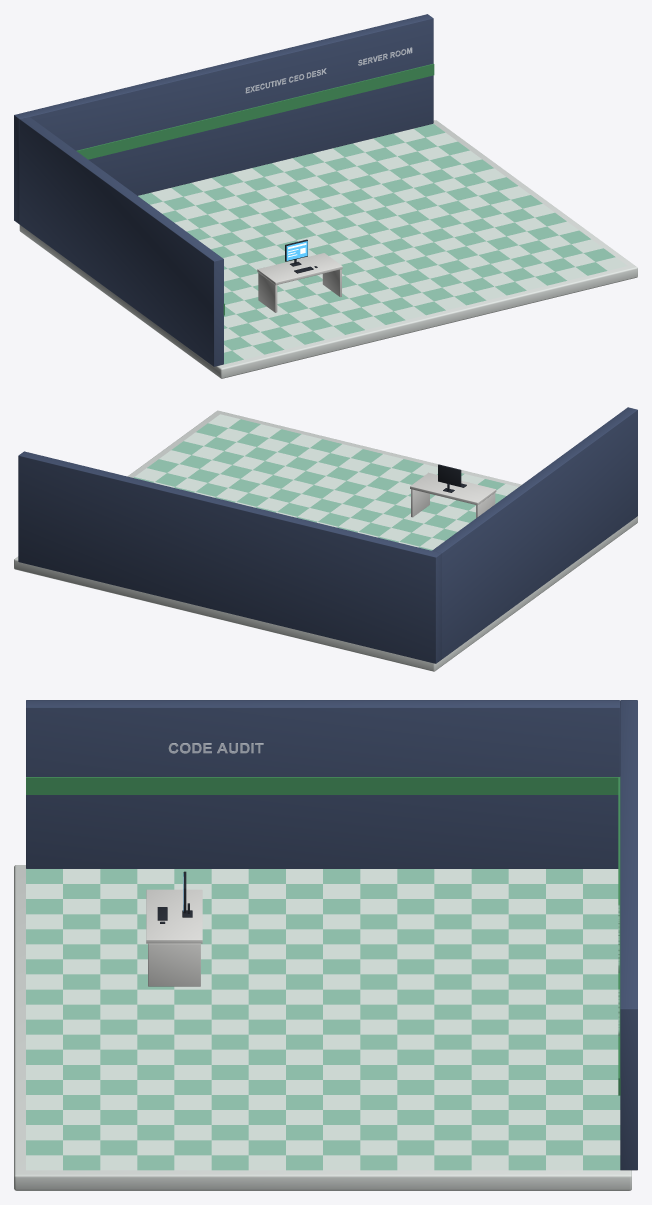
File: room.glb
3 views of the same model, one above another, from view 1: azimuth 30°, elevation 25°; view 2: azimuth 150°, elevation 25°; view 3: azimuth 270°, elevation 25° (orthographic). The views are drawn at different scales.
Parts seen in each view (by area): view 1: FloorTiles, WallBack, WallLeft, Slab, StripeBack, DeskTop, PanelLeg; view 2: WallBack, FloorTiles, WallLeft, Slab, DeskTop, MonitorFrame, PanelLeg.001; view 3: FloorTiles, WallLeft, Slab, StripeLeft, WallBack, DeskTop, PanelLeg.001, StripeBack.
Part boxes in pixels (x1,y1,x2,y2): FloorTiles: (138,124,627,364); WallBack: (14,14,433,224); WallLeft: (19,117,223,366); Slab: (19,120,637,378); StripeBack: (76,63,434,159); DeskTop: (257,253,342,285); PanelLeg: (258,273,277,312); WallBack: (18,451,441,663); FloorTiles: (133,414,518,550); WallLeft: (432,407,637,659); Slab: (14,410,637,671); DeskTop: (410,472,496,505); MonitorFrame: (438,464,461,486); PanelLeg.001: (411,489,429,517); FloorTiles: (26,869,620,1170); WallLeft: (26,700,620,868); Slab: (14,865,631,1190); StripeLeft: (26,777,618,794); WallBack: (620,700,637,1170); DeskTop: (146,889,202,943); PanelLeg.001: (148,943,200,986); StripeBack: (618,777,620,1095).
Bounding box in the file's own units: 12.5 × 3.3 × 10.5.
